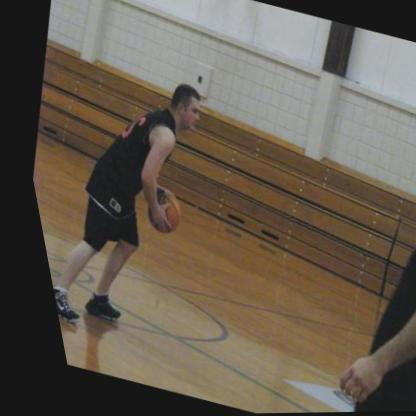basketball: (131, 192, 179, 236)
